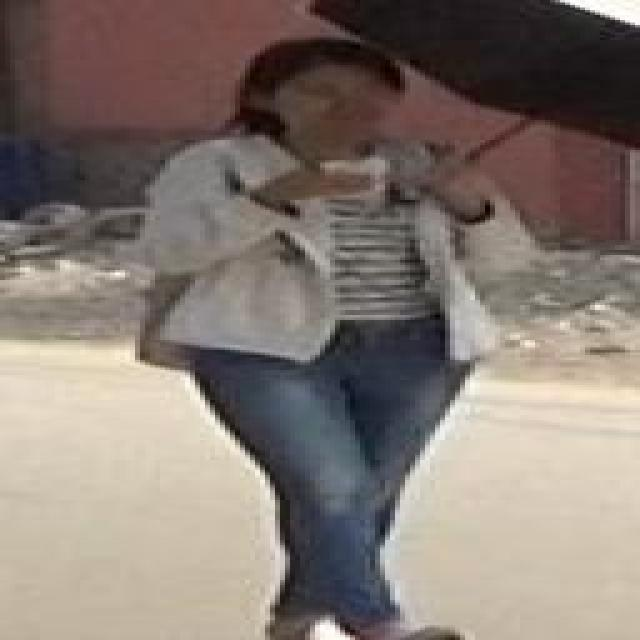adult: (134, 32, 532, 640)
